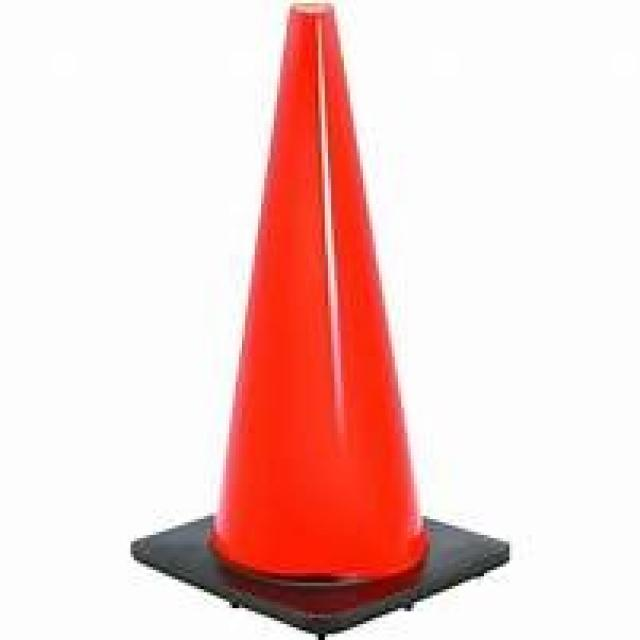traffic cone: (120, 1, 523, 640)
